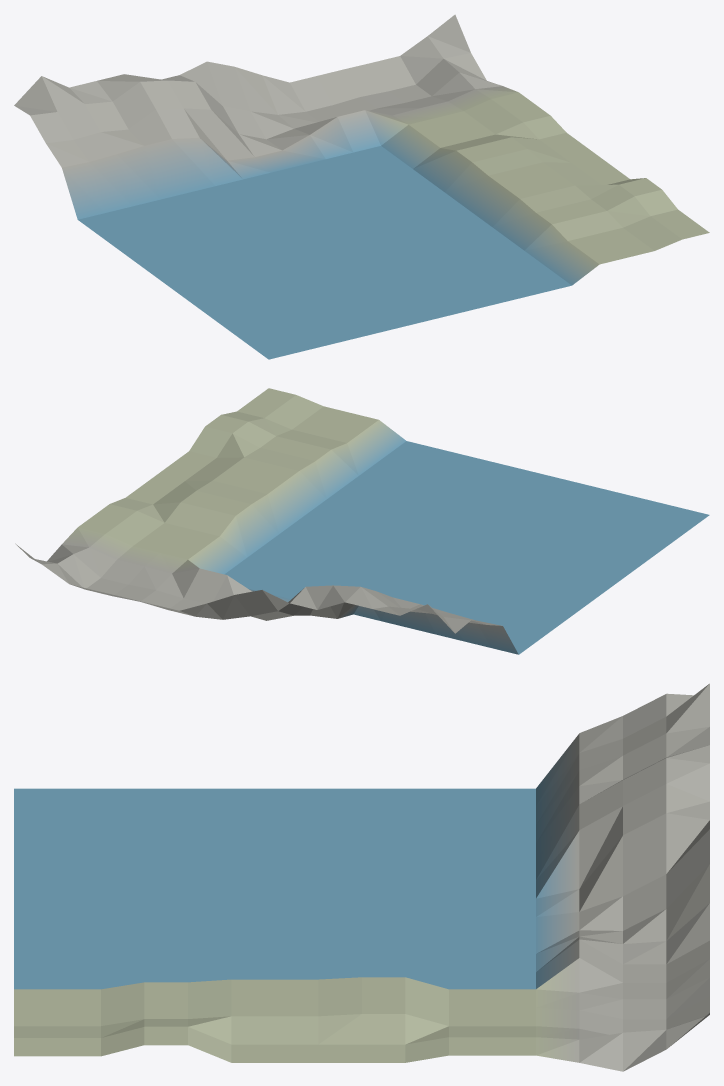
3 renders of one model, top to bottom at view 1: azimuth 30°, elevation 25°; view 2: azimuth 150°, elevation 25°; view 3: azimuth 270°, elevation 25°, orthographic. The views are drawn at different scales.
Size of the model in its own units: 32 by 6.28 by 32.
